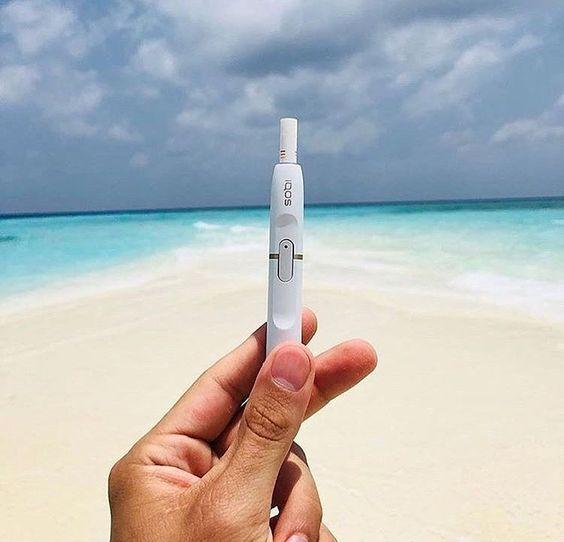iqos: (267, 118, 304, 355)
